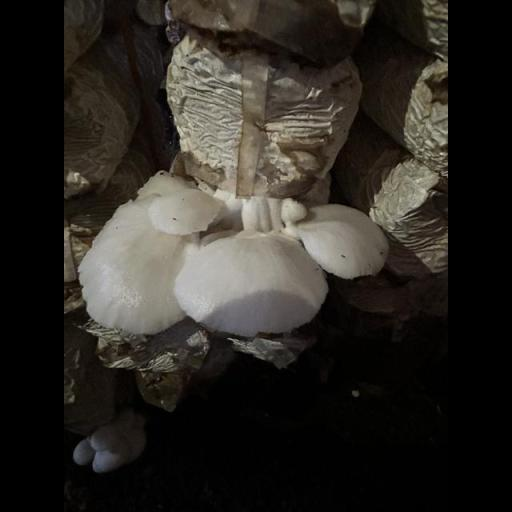White Oyster Mushroom: (80, 178, 392, 349)
